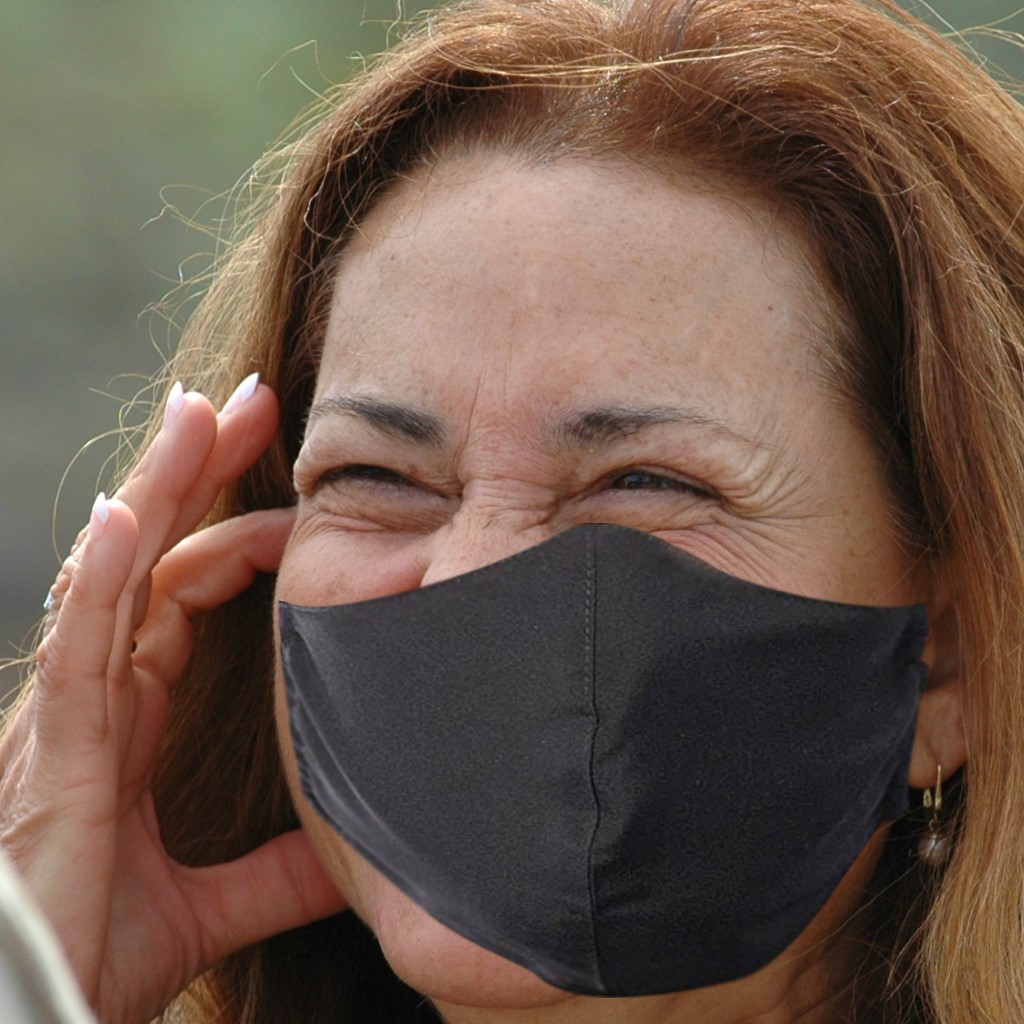con_mascara: (270, 136, 906, 972)
